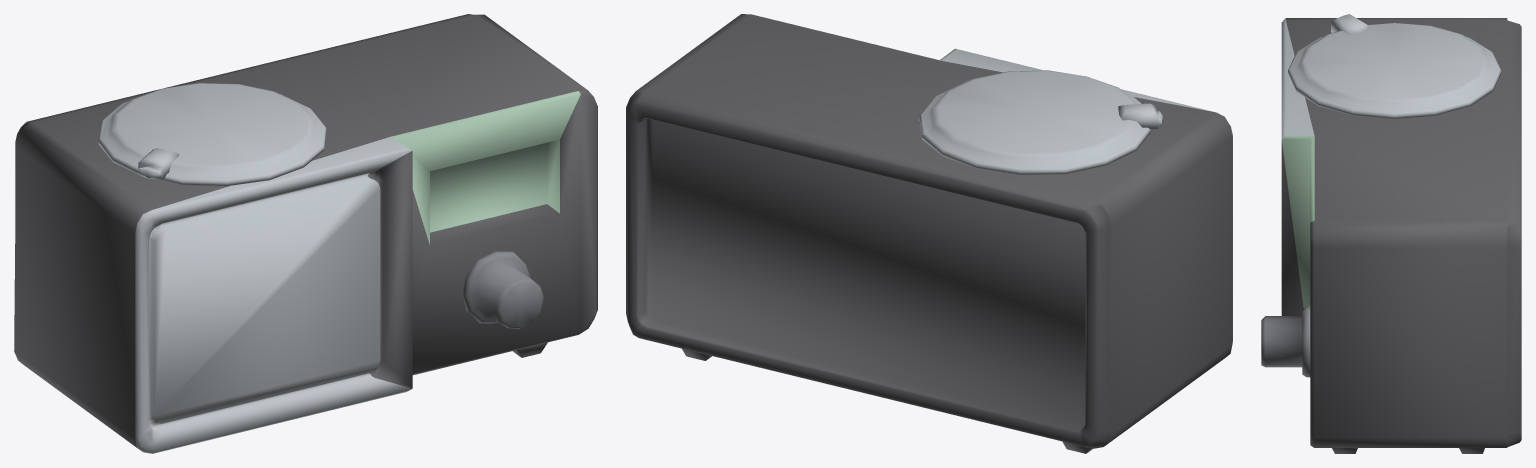
The model's file is radio_clock.glb.
3 views of the same model, side by side, from view 1: azimuth 30°, elevation 25°; view 2: azimuth 150°, elevation 25°; view 3: azimuth 270°, elevation 25° (orthographic). The views are drawn at different scales.
Visible parts, largest first — view 1: radio_clock; view 2: radio_clock; view 3: radio_clock.
Part boxes in pixels (x1,y1,x2,y2): radio_clock: (14, 14, 597, 453); radio_clock: (626, 14, 1232, 453); radio_clock: (1261, 14, 1521, 453).
Size of the model in its own units: 0.1226 by 0.0693 by 0.062.
